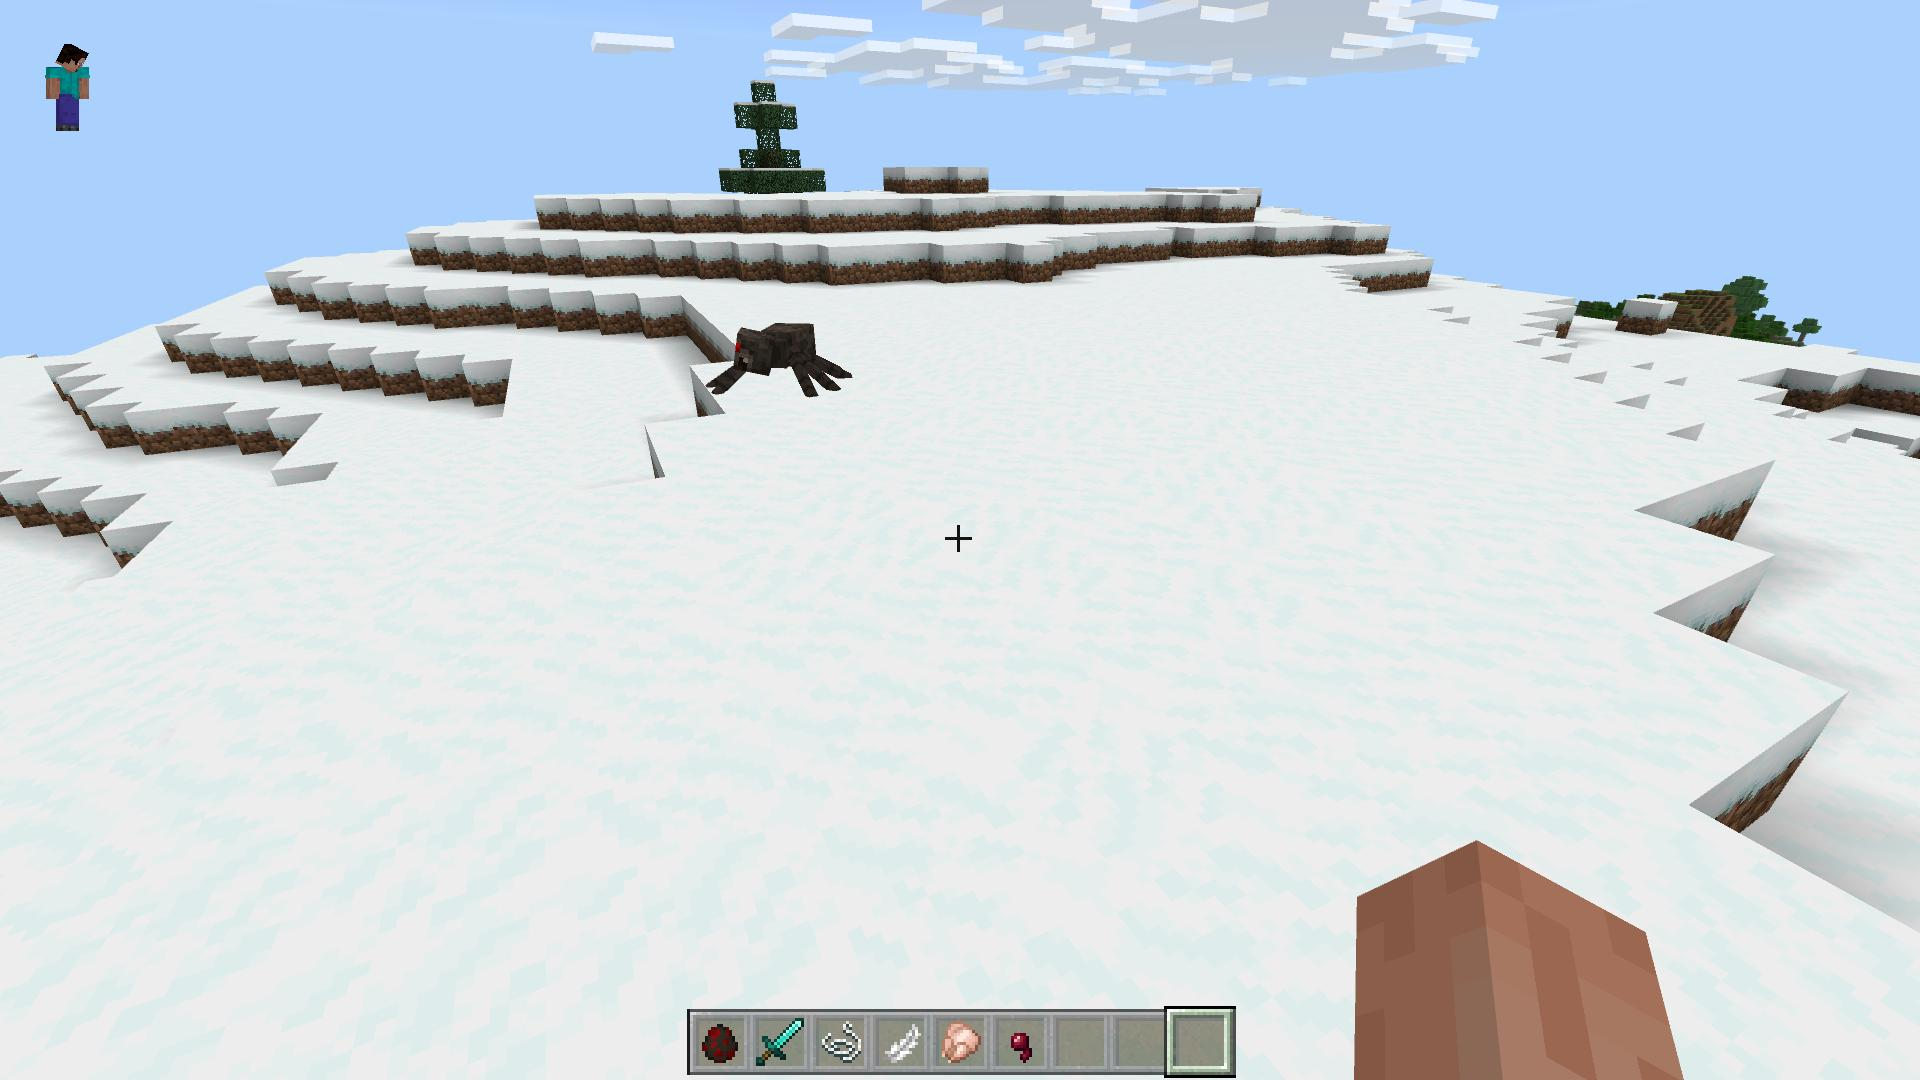spider: (713, 323, 856, 410)
